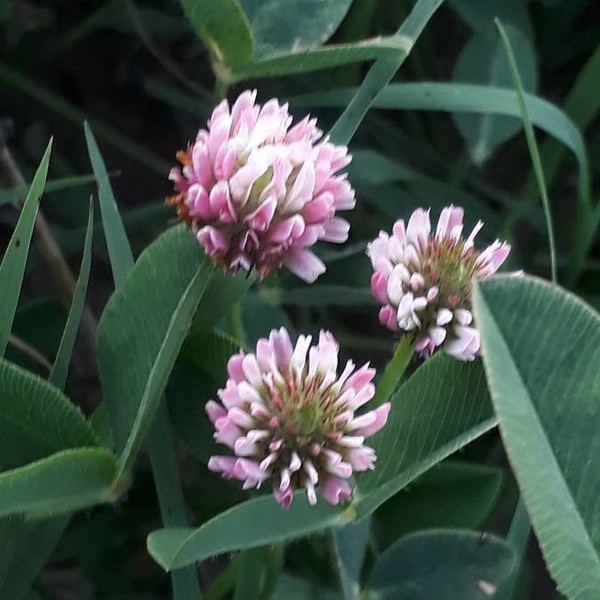obstacle: (174, 79, 483, 523)
